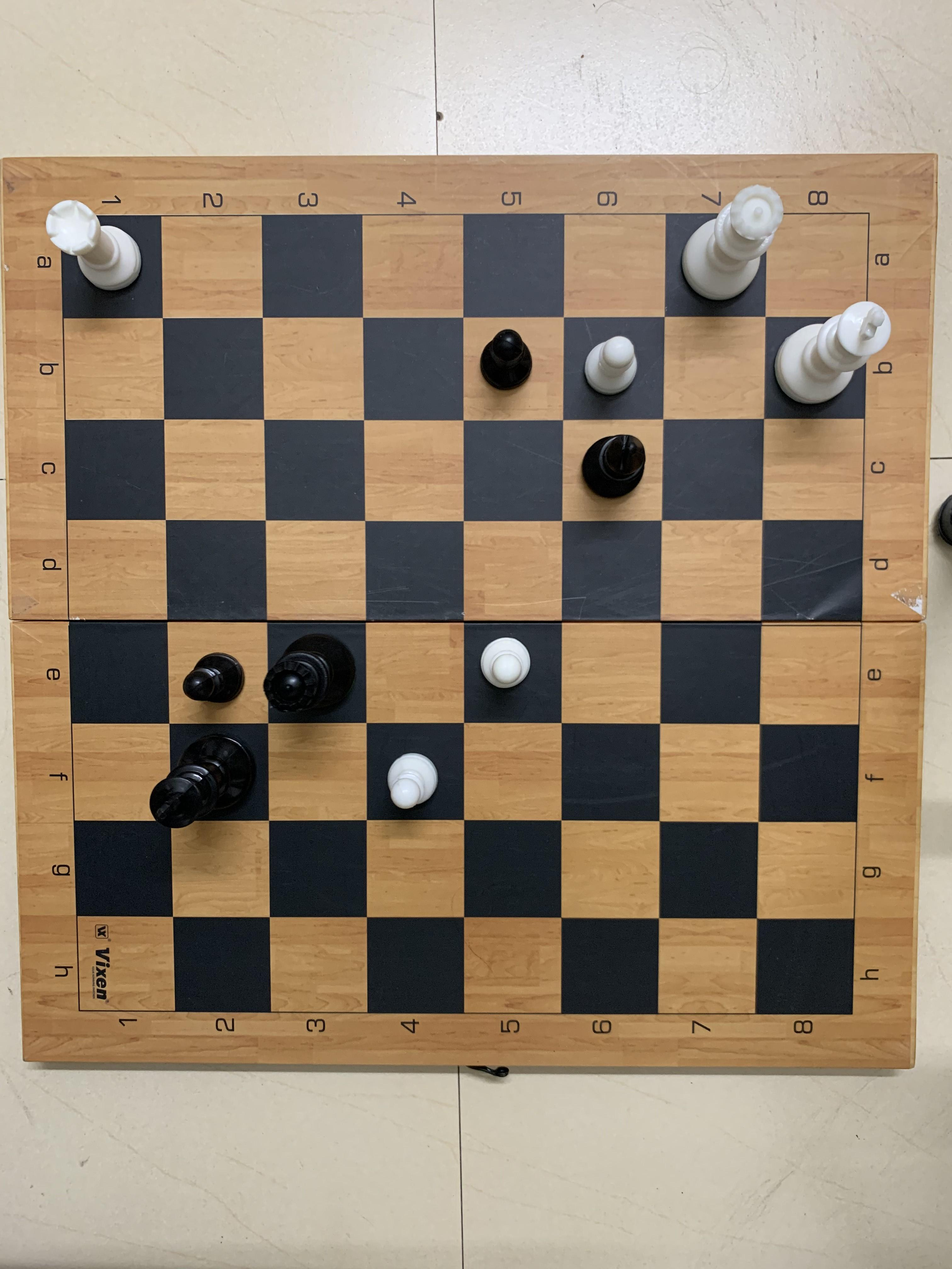black_bishop: (570, 416, 664, 518)
black_king: (135, 723, 254, 833)
black_pawn: (172, 625, 256, 722), (458, 326, 545, 417)
black_queen: (258, 623, 362, 742)
white_king: (776, 279, 906, 414)
white_pawn: (568, 320, 662, 422), (461, 625, 565, 716), (375, 727, 458, 819)
white_queen: (664, 175, 794, 310)
white_rook: (35, 188, 159, 315)
